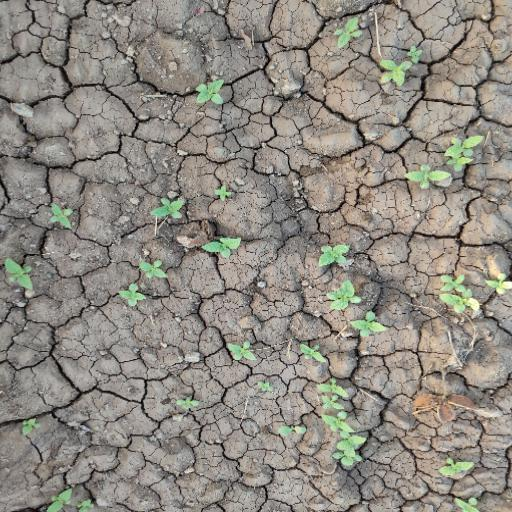crop: (1, 203, 77, 305), (312, 242, 387, 340), (153, 188, 252, 257), (329, 20, 426, 87), (312, 382, 382, 461), (402, 130, 478, 190), (436, 267, 512, 320), (111, 257, 171, 319), (195, 70, 228, 113), (222, 338, 262, 365)
